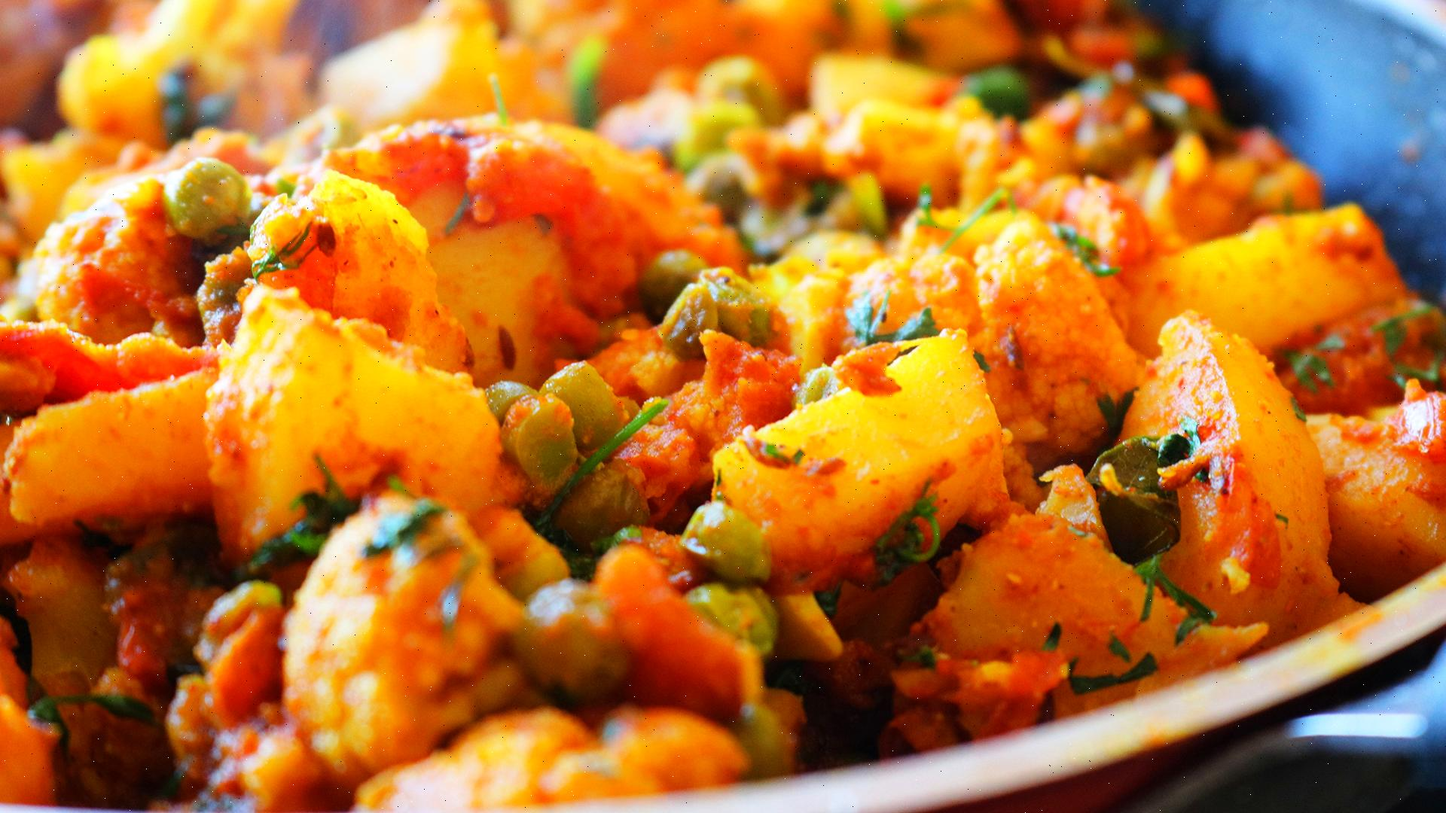aloo gobhi: (1, 8, 1446, 813)
